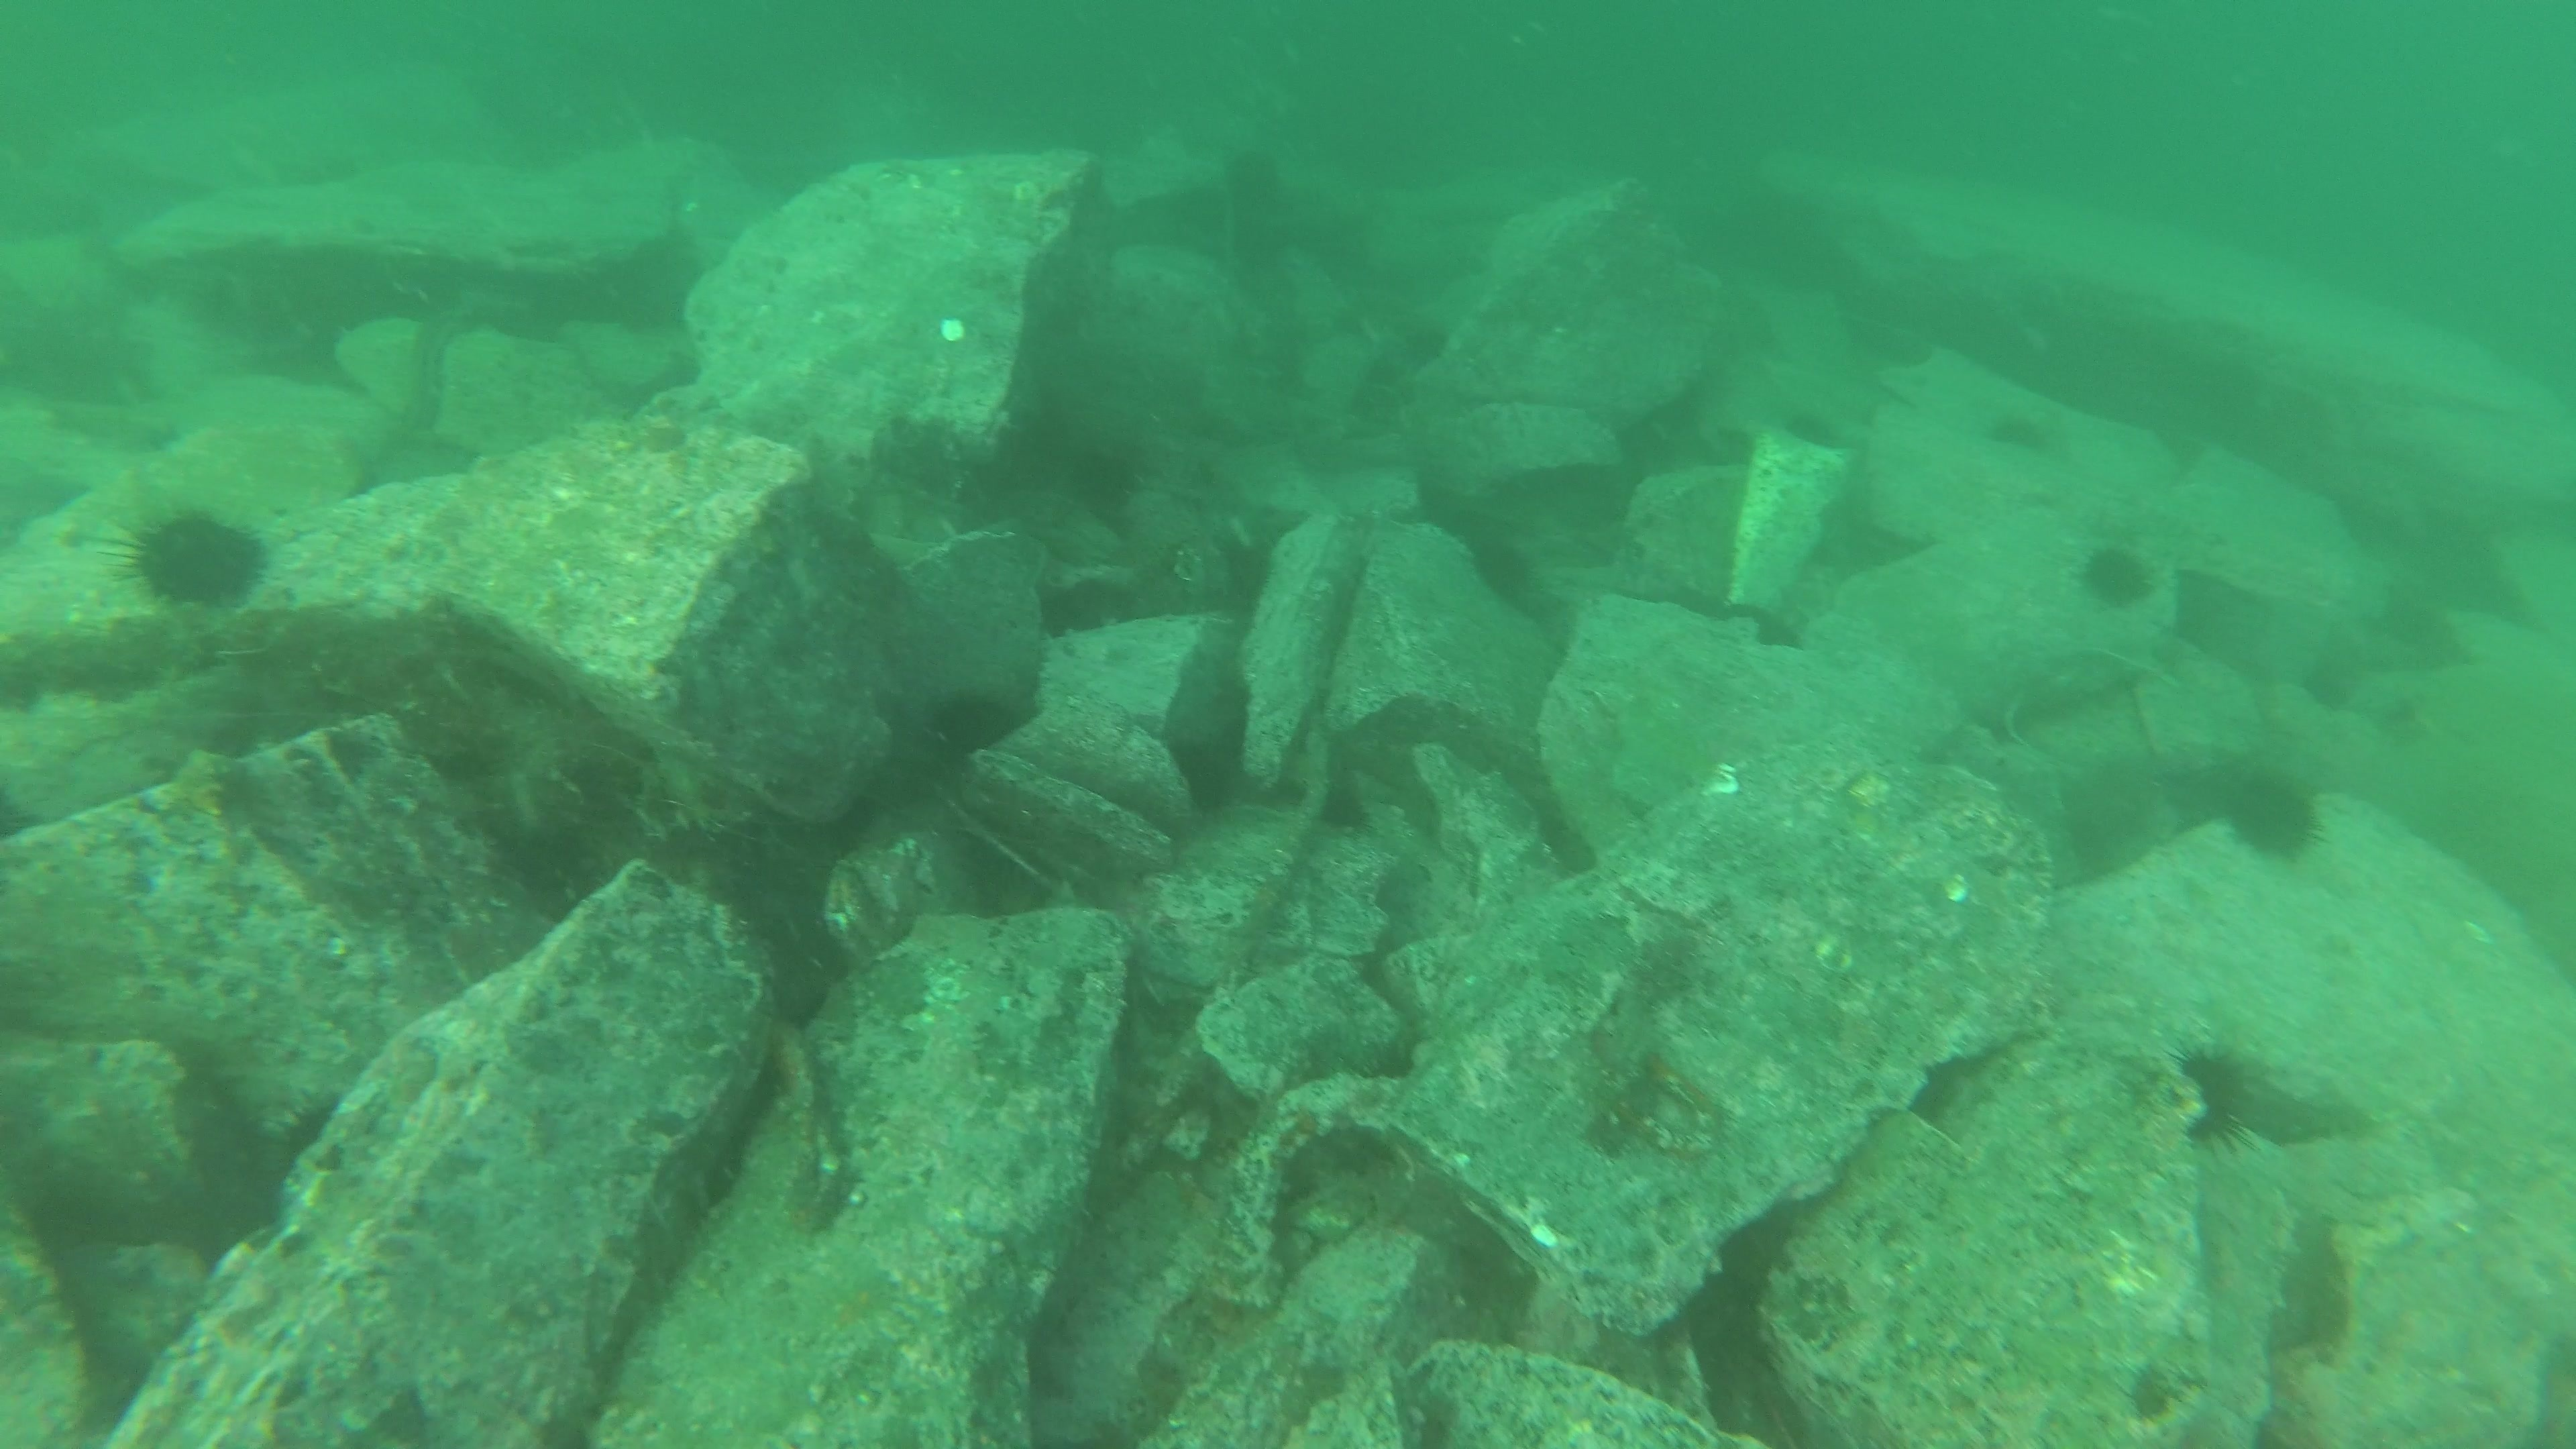echinus: (119, 501, 272, 614), (2215, 761, 2328, 867), (2169, 1039, 2266, 1155), (920, 681, 1024, 763), (2074, 536, 2158, 614), (1980, 402, 2061, 458)
